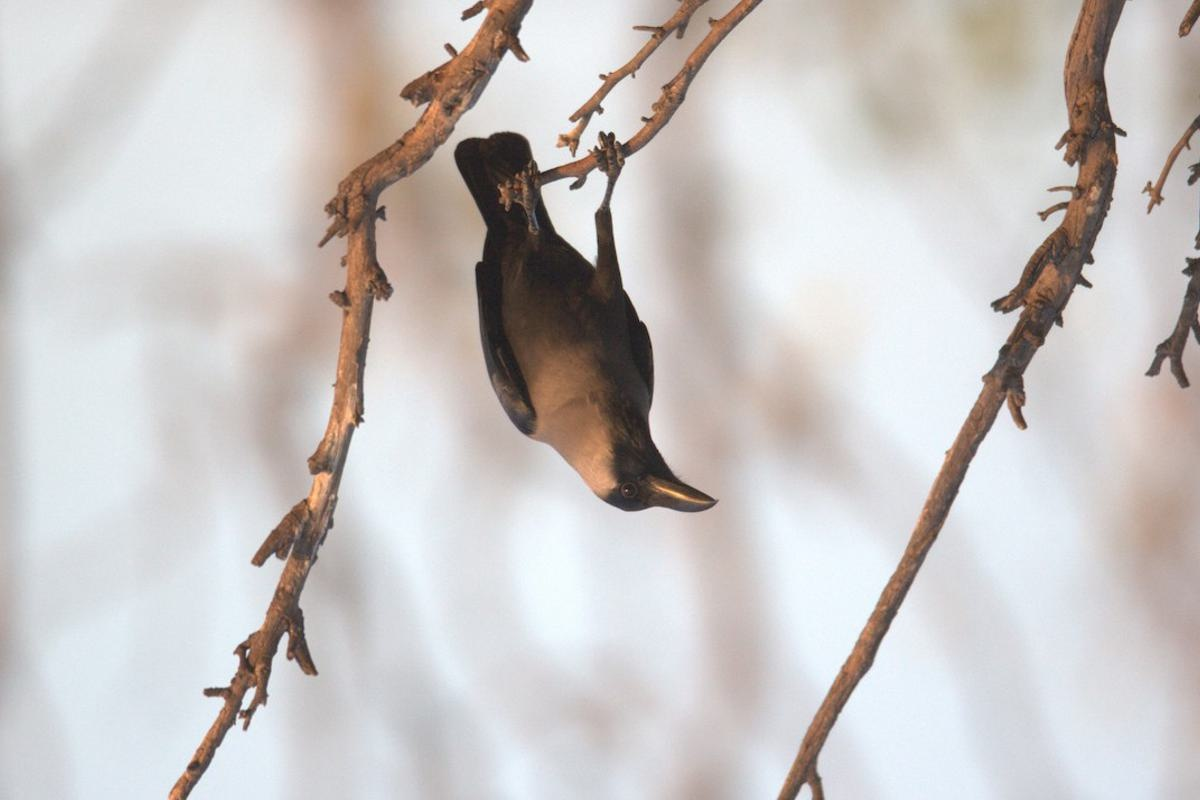crow: (437, 129, 736, 530)
